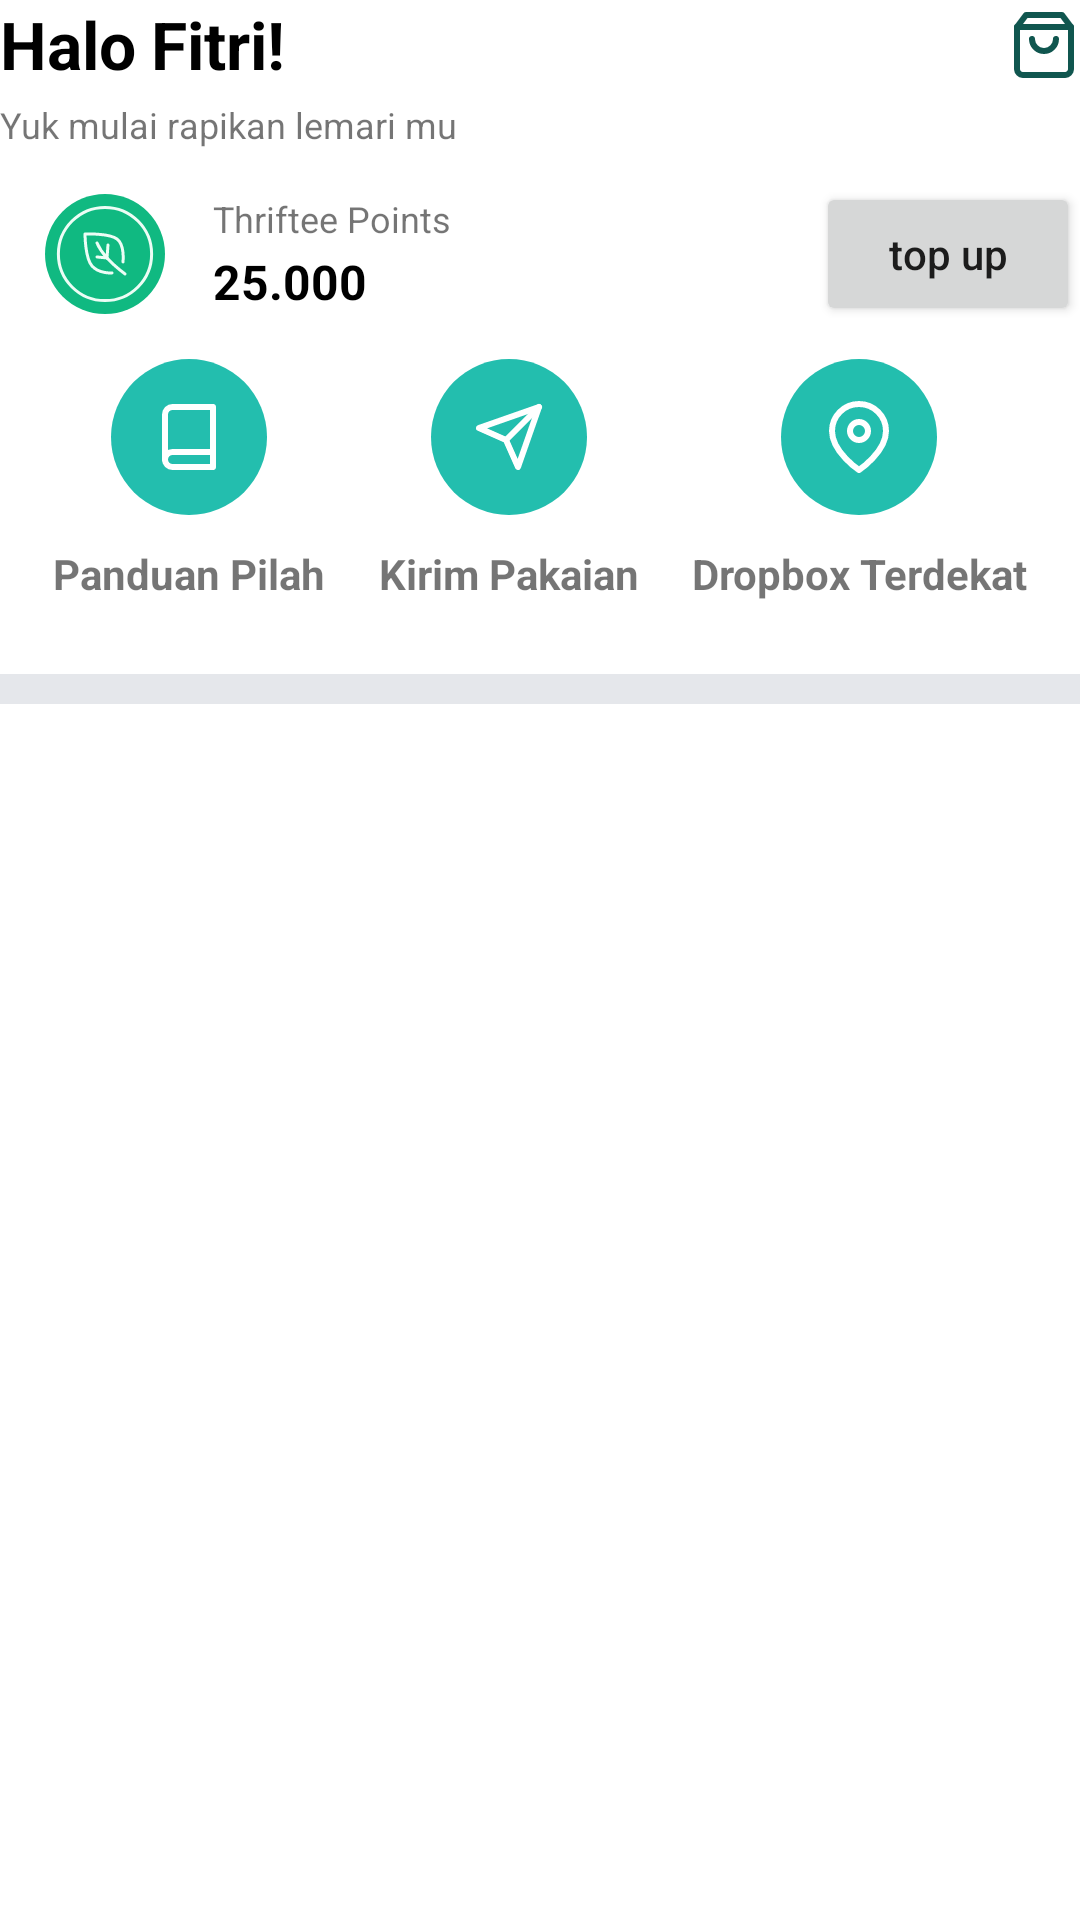

Where to tap for icons on this 1080px×1920px app screen, as point (x, y):
cart: point (1044, 45)
